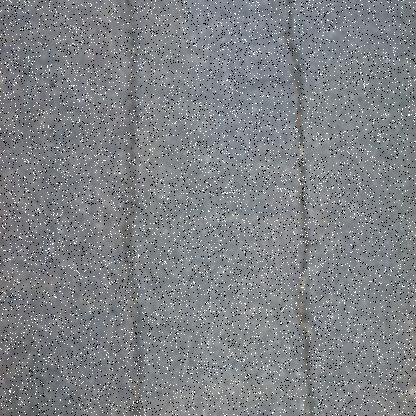Cracks: (283, 0, 320, 416), (118, 0, 150, 416)
